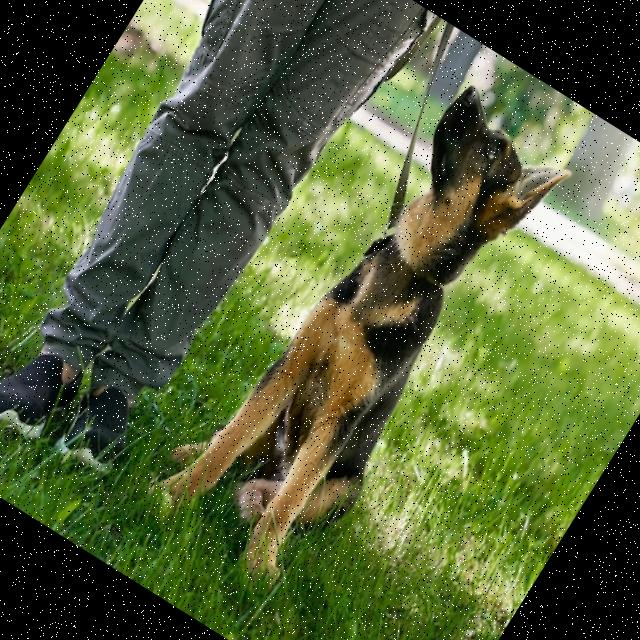Dog: (131, 50, 583, 616)
